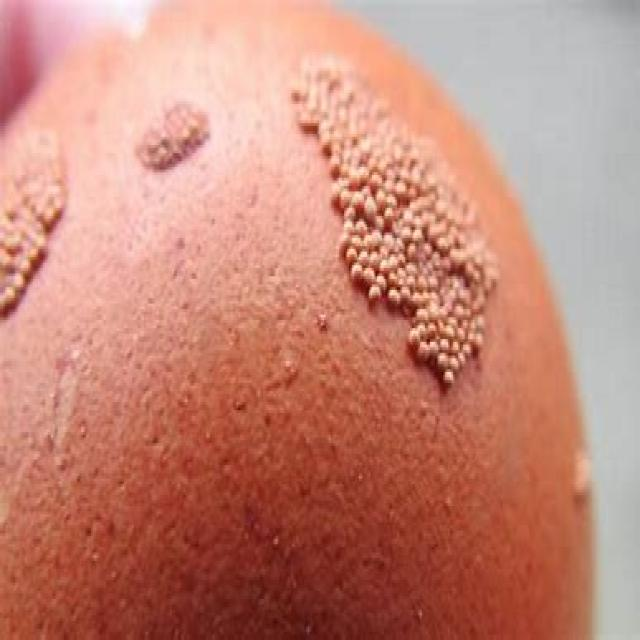Calcium Deposit Egg: (2, 0, 615, 640)
